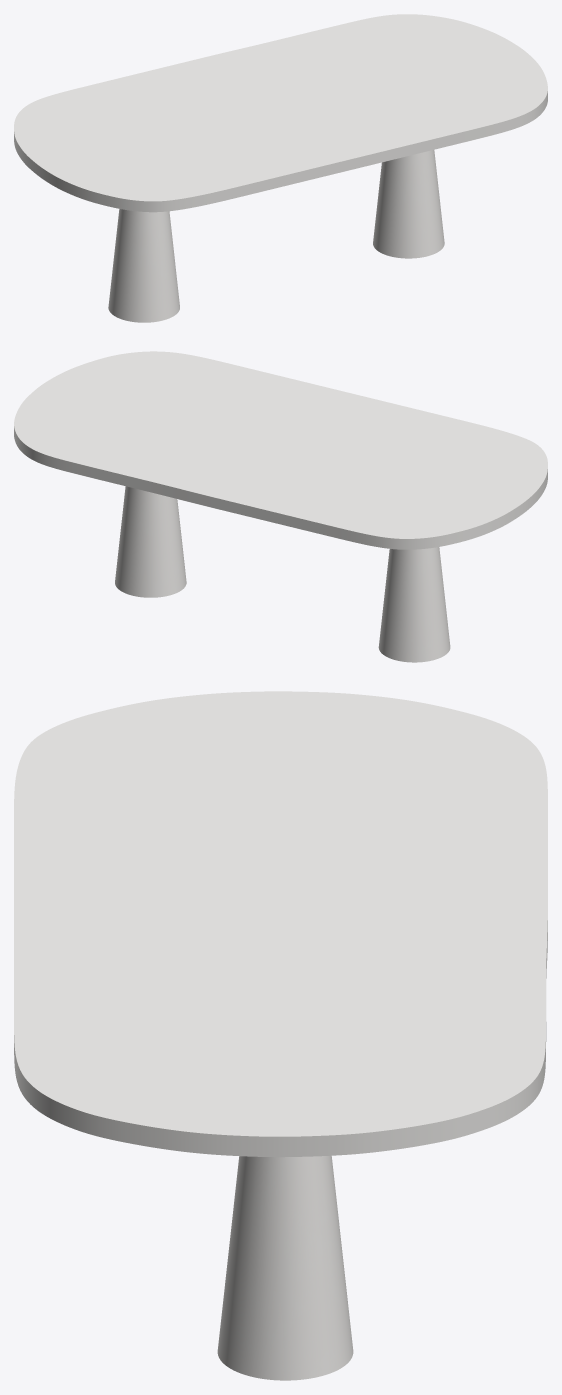
The model's file is purewhite_oval_standard_pebble.glb.
3 views of the same model, one above another, from view 1: azimuth 30°, elevation 25°; view 2: azimuth 150°, elevation 25°; view 3: azimuth 270°, elevation 25° (orthographic). The views are drawn at different scales.
Parts seen in each view (by area): view 1: standard_oval, pebble; view 2: standard_oval, pebble; view 3: standard_oval, pebble.
Boxes of the visible parts, x1,y1,x2,y2 form: standard_oval: (14, 14, 547, 212); pebble: (108, 150, 444, 322); standard_oval: (14, 351, 547, 549); pebble: (115, 486, 450, 662); standard_oval: (14, 691, 547, 1157); pebble: (217, 1155, 353, 1380).
Bounding box in the file's own units: 7.5 × 2.5 × 3.8.
1 material, 1 textured.
